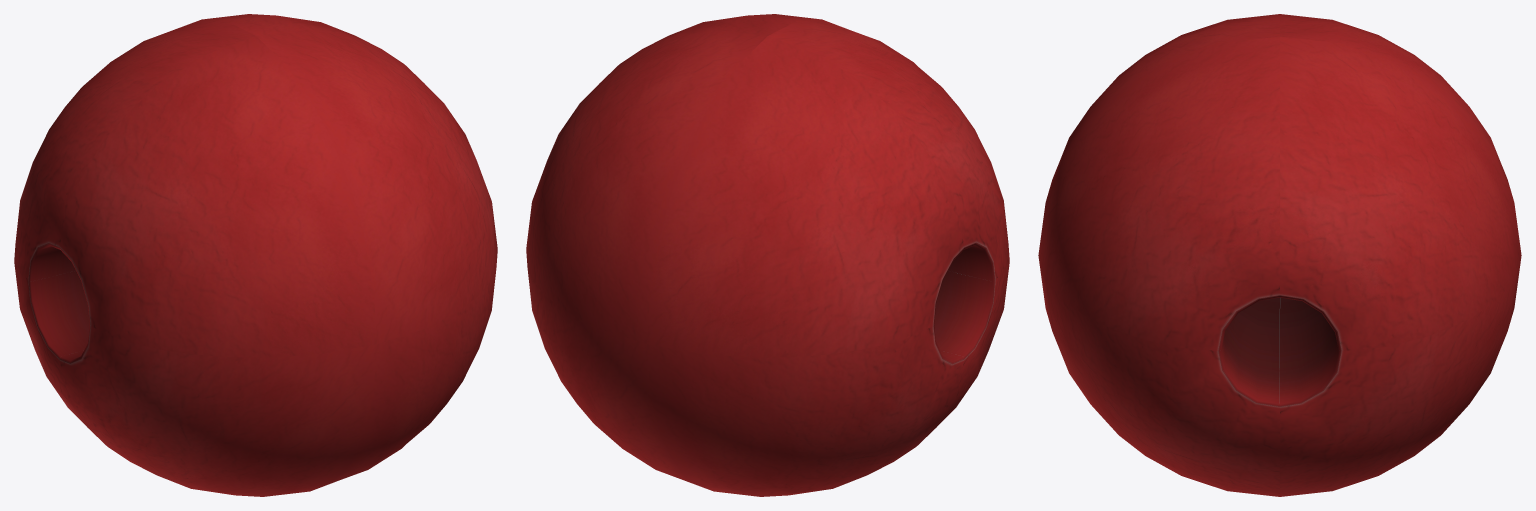
File: kraal_Model_Red.fbx
3 views of the same model, side by side, from view 1: azimuth 30°, elevation 25°; view 2: azimuth 150°, elevation 25°; view 3: azimuth 270°, elevation 25° (orthographic).
Visible parts, largest first — view 1: Sphere_1; view 2: Sphere_1; view 3: Sphere_1.
Boxes of the visible parts, <box> form: Sphere_1: <box>14,14,497,496</box>; Sphere_1: <box>526,14,1009,496</box>; Sphere_1: <box>1038,14,1521,496</box>.
Size of the model in its own units: 187 by 200 by 200.
1 material, 1 textured.
